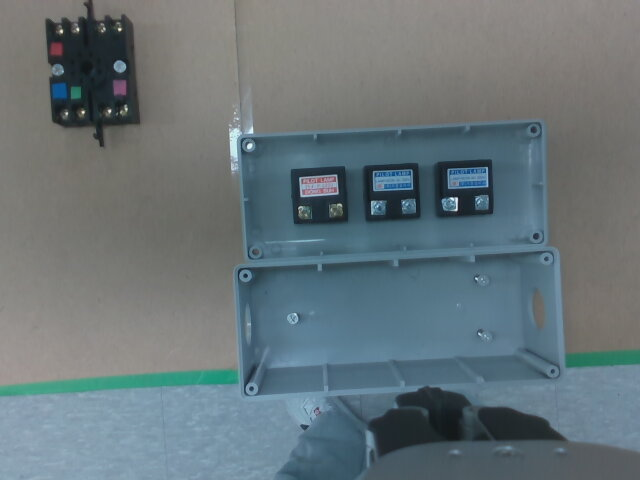L1(1): (297, 206, 311, 218)
L1(2): (329, 204, 343, 217)
L2(1): (371, 200, 387, 216)
L2(2): (402, 199, 416, 213)
L3(1): (442, 197, 458, 211)
L3(2): (475, 195, 490, 209)
